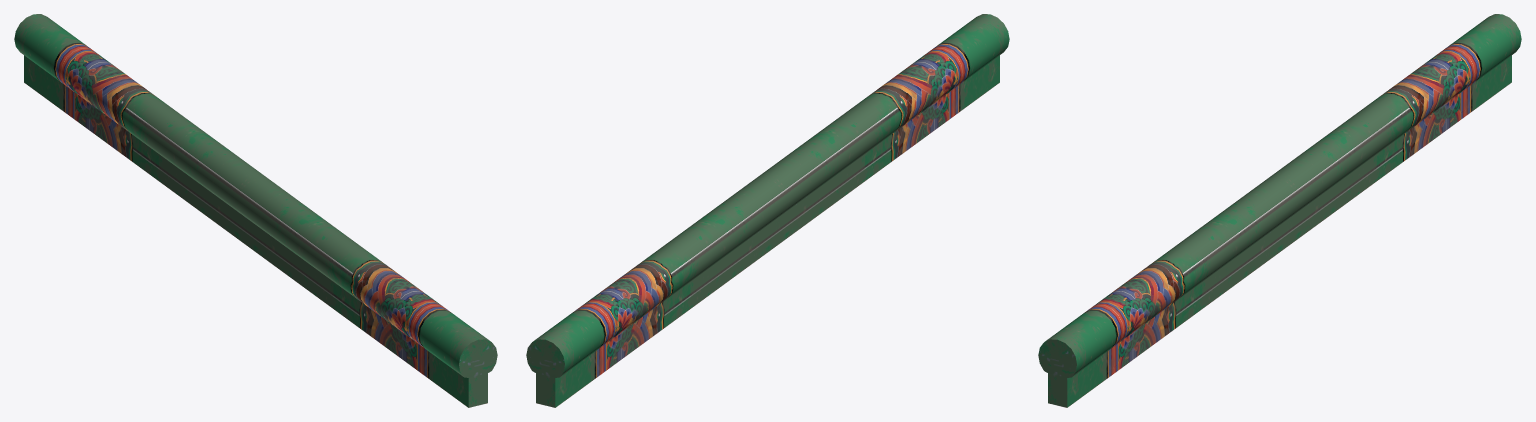
Rendered from SM_Purlin03c.fbx.
3 views of the same model, side by side, from view 1: azimuth 30°, elevation 25°; view 2: azimuth 150°, elevation 25°; view 3: azimuth 330°, elevation 25° (orthographic).
Visible parts, largest first — view 1: SM_Purlin03c; view 2: SM_Purlin03c; view 3: SM_Purlin03c.
Part boxes in pixels (x1,y1,x2,y2): SM_Purlin03c: (14,14,497,407); SM_Purlin03c: (526,14,1009,407); SM_Purlin03c: (1038,14,1521,407).
Size of the model in its own units: 20.15 by 400 by 32.73.
1 material, 1 textured.
